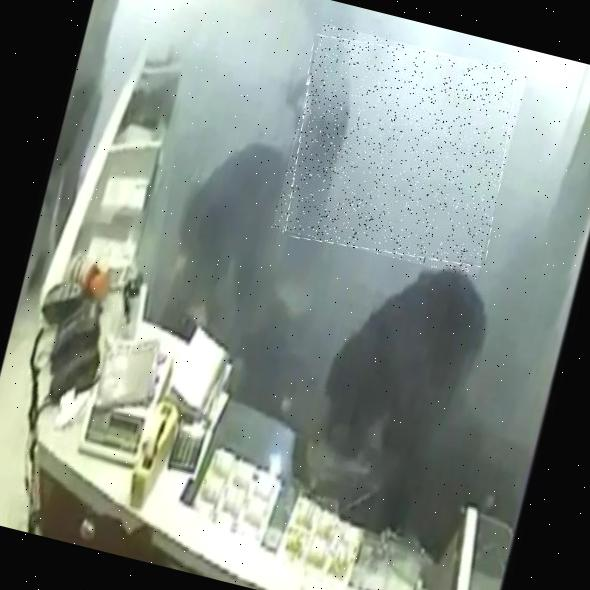smoke: (270, 23, 527, 279)
